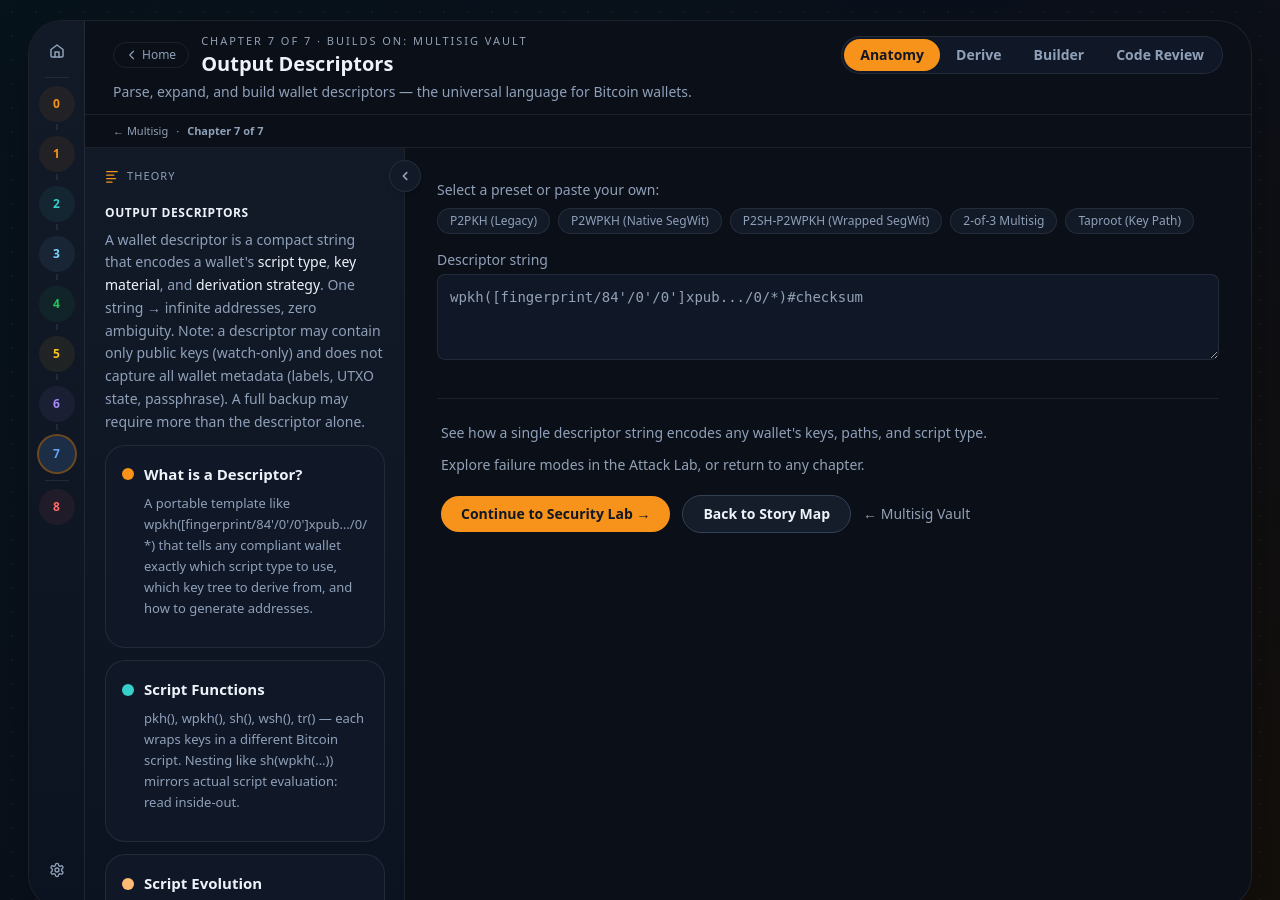
Test: OutputDescriptors › AC9: Same Key Different Scripts comparison appears in Derive tab
Click the button "P2WPKH (Native SegWit)" at (640, 221), box [558, 208, 722, 234]
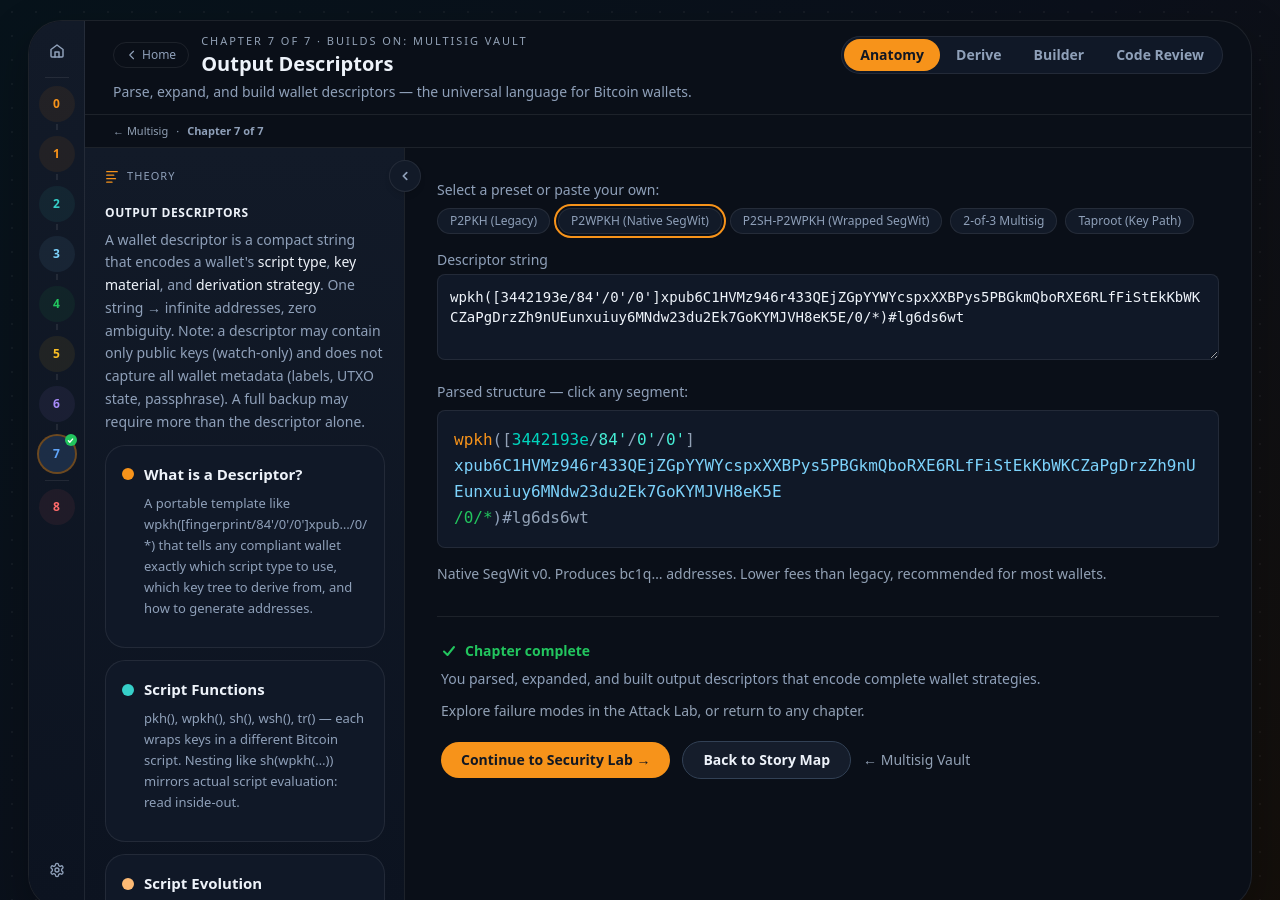
Expected: the text "Parsed structure — click any segment:" is shown, [437, 382, 688, 401]
Click the tab "Derive" at (979, 55), box [940, 39, 1018, 71]
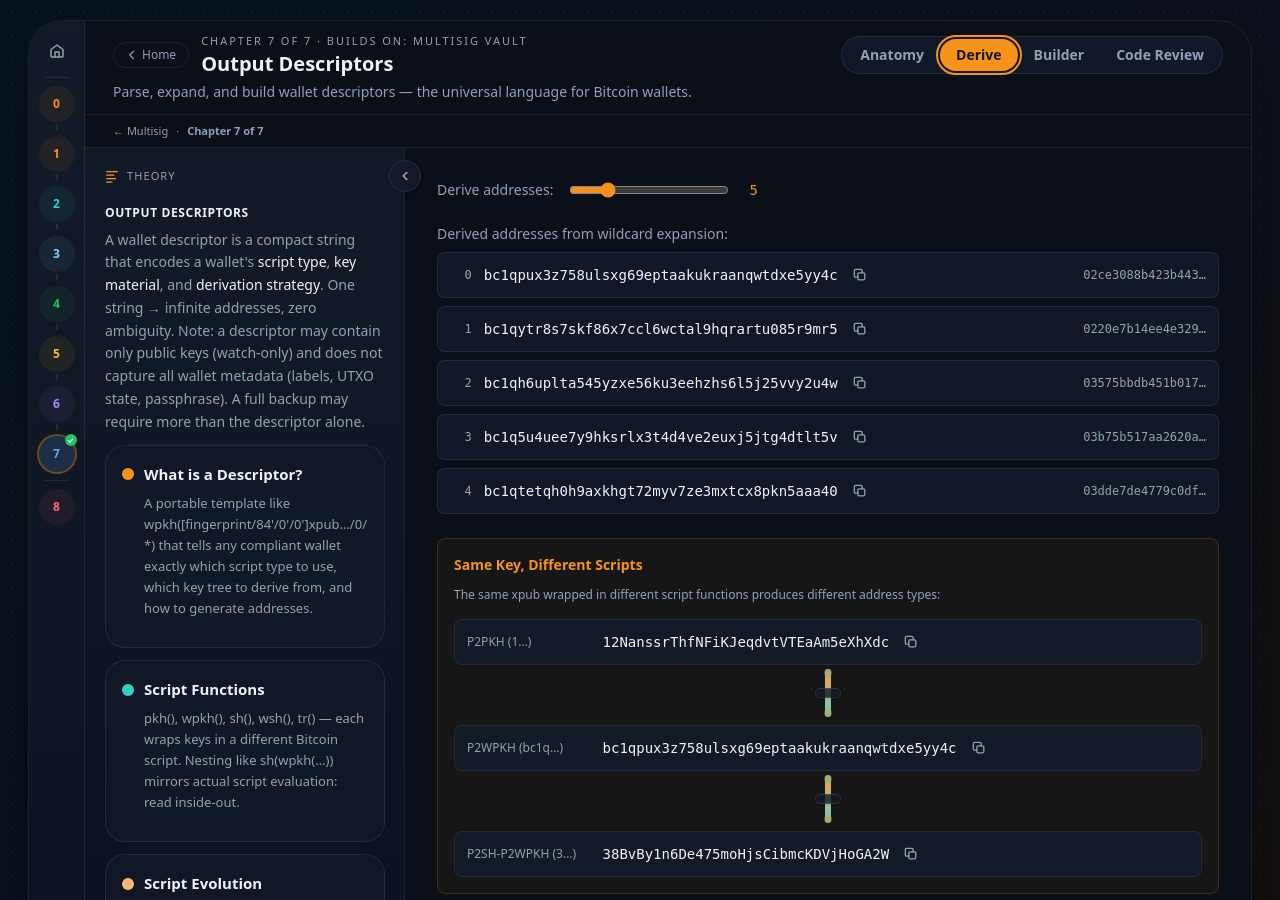
Expected: the heading "Same Key, Different Scripts" is shown, [454, 555, 643, 574]
